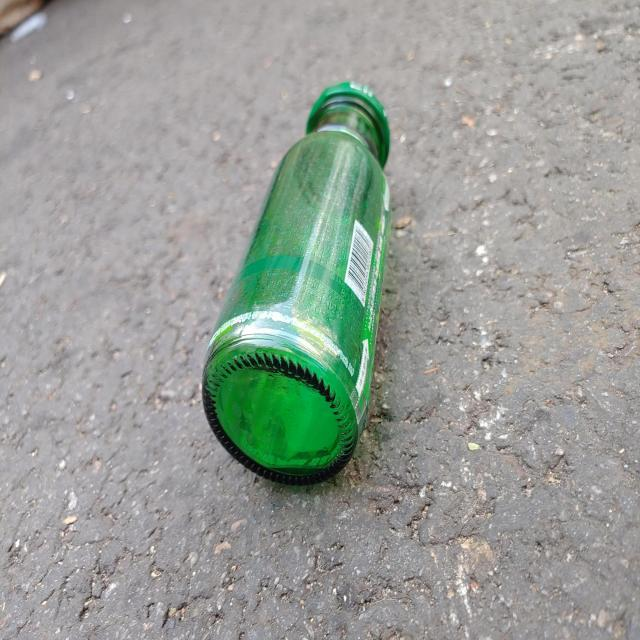glass: (202, 80, 390, 485)
